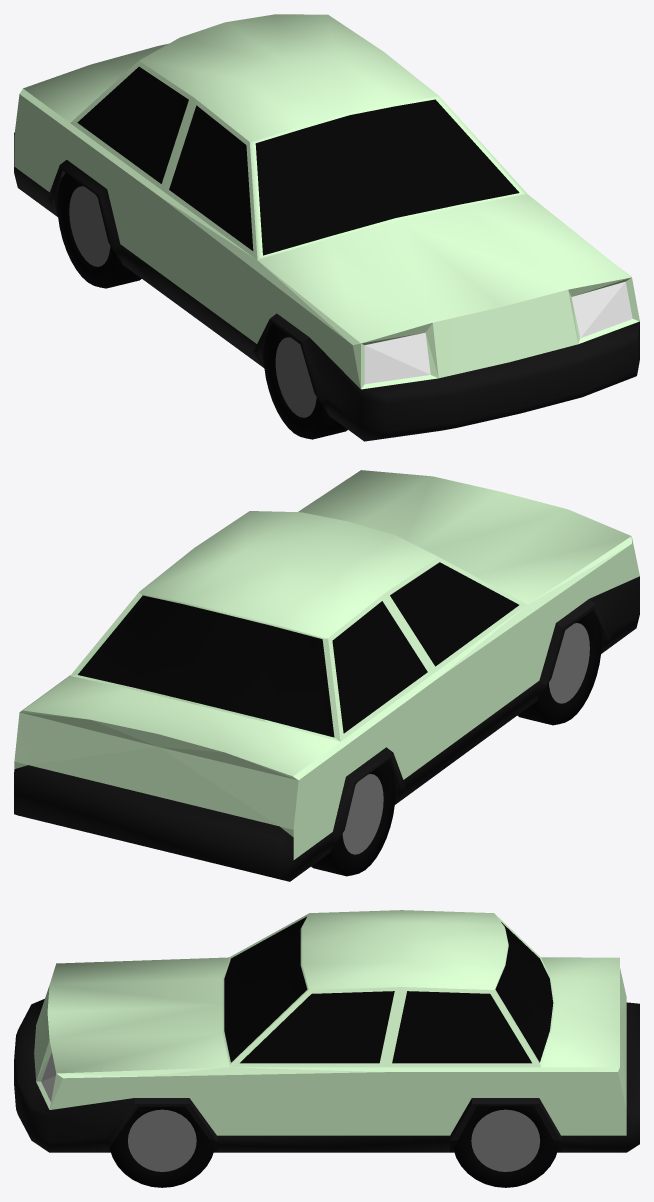
Rendered from car4.obj.
The picture shows the model from 3 angles, top to bottom: view 1: azimuth 30°, elevation 25°; view 2: azimuth 150°, elevation 25°; view 3: azimuth 270°, elevation 25°; orthographic projection. The views are drawn at different scales.
Visible parts, largest first — view 1: Car_Cube; view 2: Car_Cube; view 3: Car_Cube.
Boxes of the visible parts, x1,y1,x2,y2 form: Car_Cube: (14,14,639,441); Car_Cube: (14,470,639,881); Car_Cube: (14,910,639,1187).
Size of the model in its own units: 2.1 by 1.59 by 4.66.
